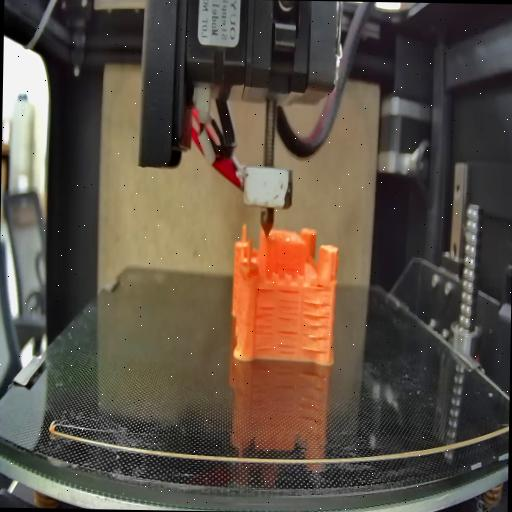cracks: (302, 301, 329, 355), (254, 304, 274, 352), (276, 290, 301, 325), (278, 331, 296, 355), (257, 284, 272, 298), (314, 284, 328, 290)
